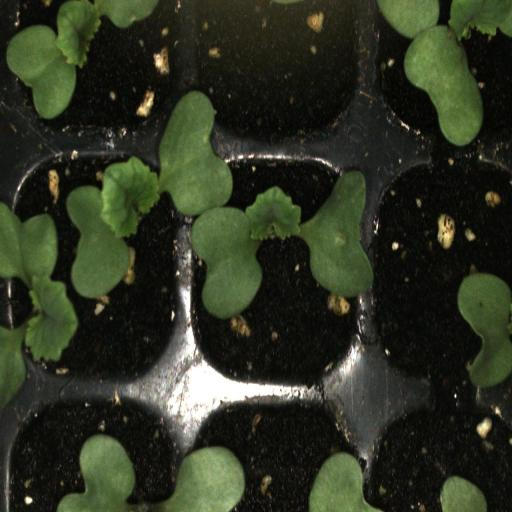Folha: (352, 0, 512, 147), (56, 434, 246, 512), (457, 272, 512, 389), (439, 475, 487, 512)
Germinacao: (4, 139, 187, 389), (187, 141, 370, 384), (12, 0, 188, 138)
